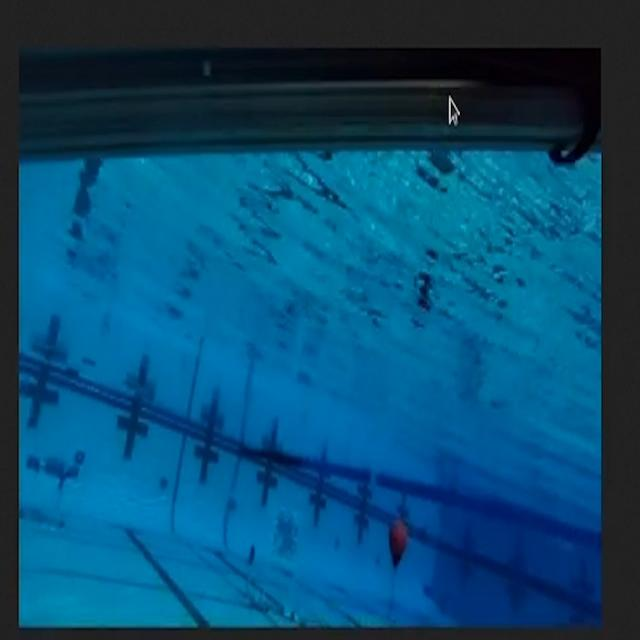Buoy: (384, 508, 415, 582)
